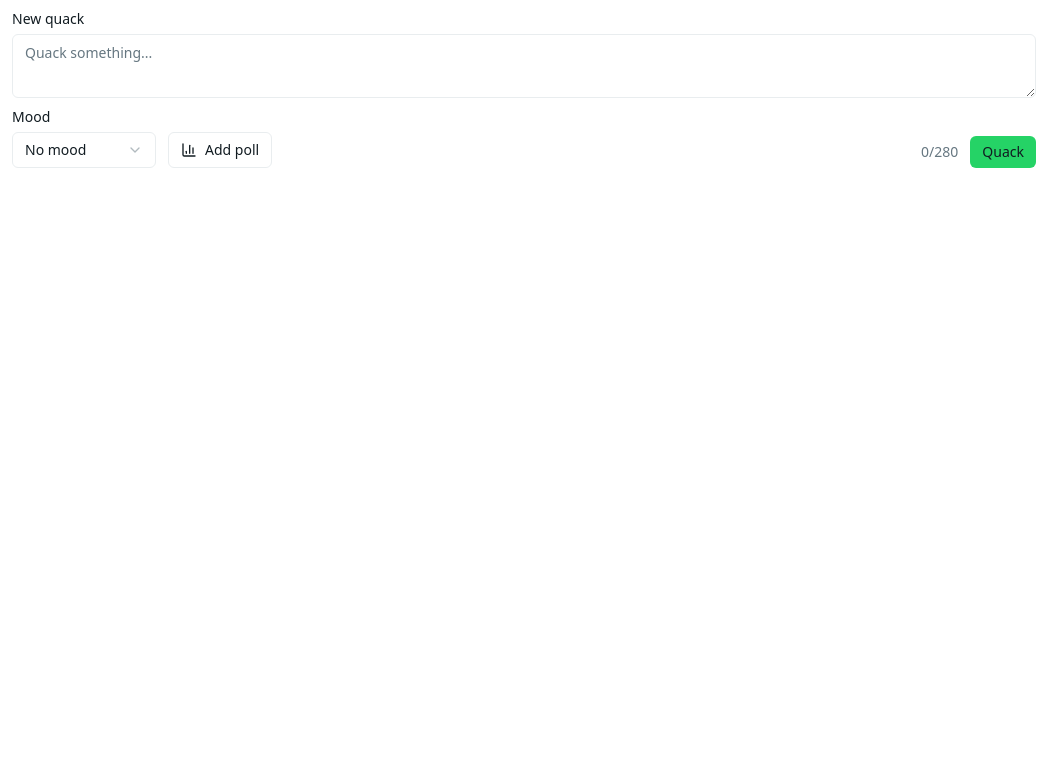
Test: QuackForm › starts with two answers and allows two to four
Click the button "Add poll": (220, 150) [168,132,272,168]
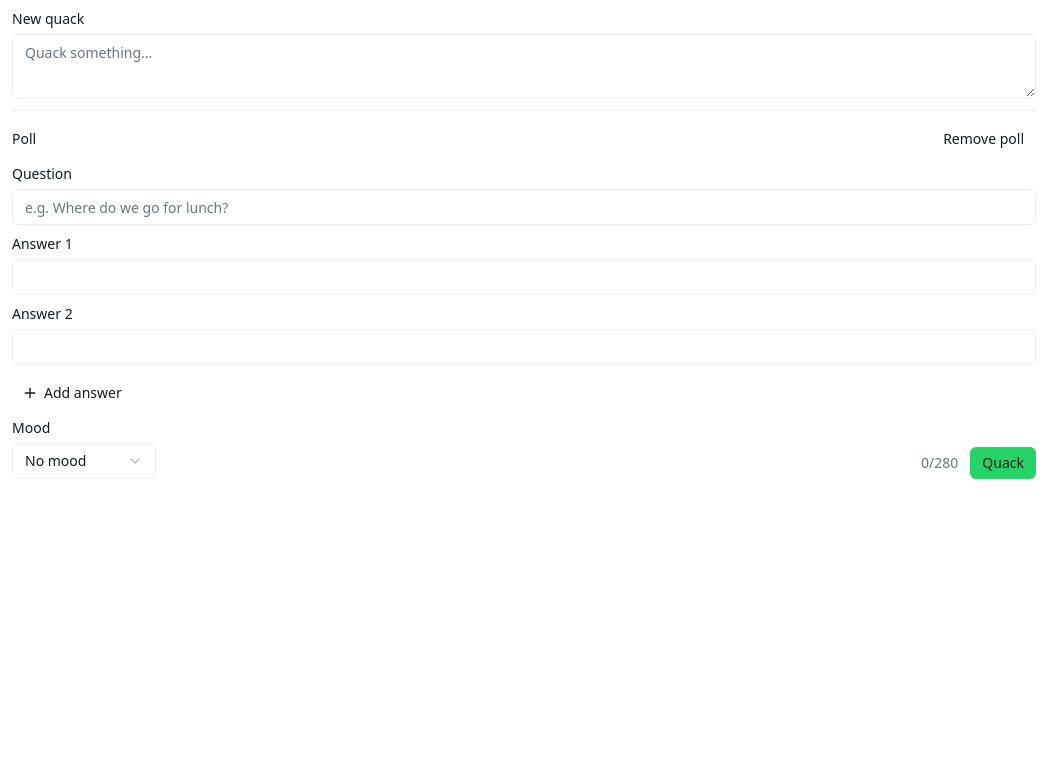
Click the button "Add answer": (72, 393) [12,377,132,409]
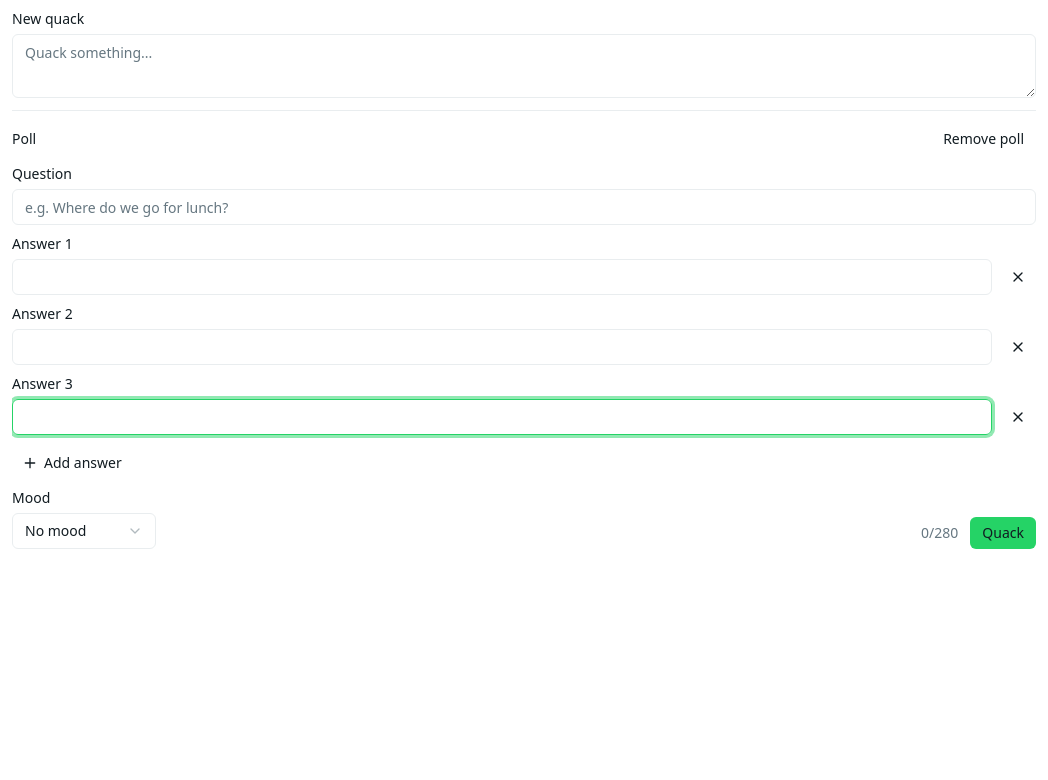
Click the button "Add answer": (72, 463) [12,447,132,479]
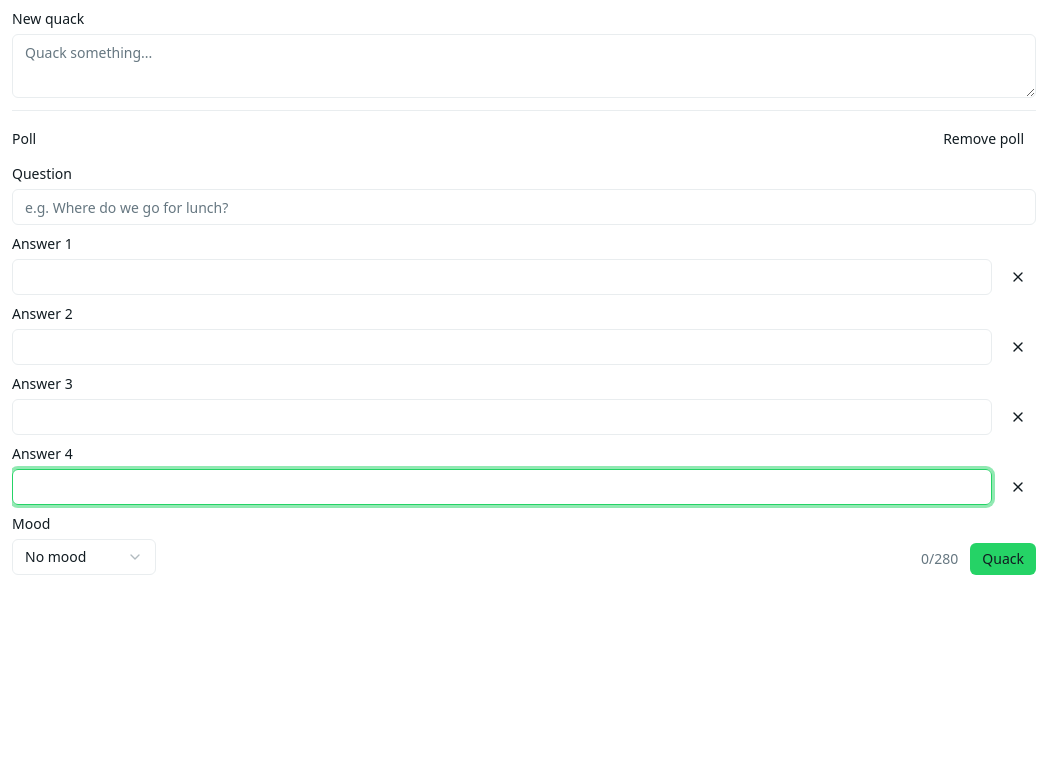
Result: the field labelled "Answer 4" is shown at [12,469,992,505]
Result: the button "Add answer" is gone
Click the button named "Remove answer 4": (1018, 487) [1000,469,1036,505]
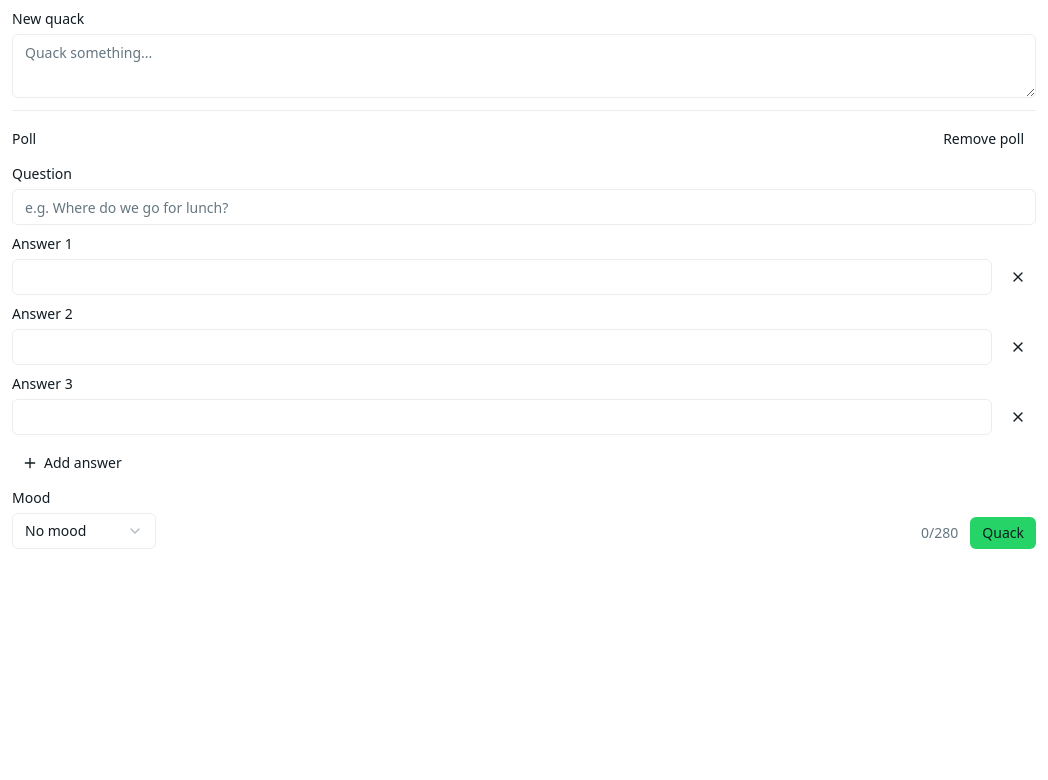
Click the button named "Remove answer 3": (1018, 417) [1000,399,1036,435]
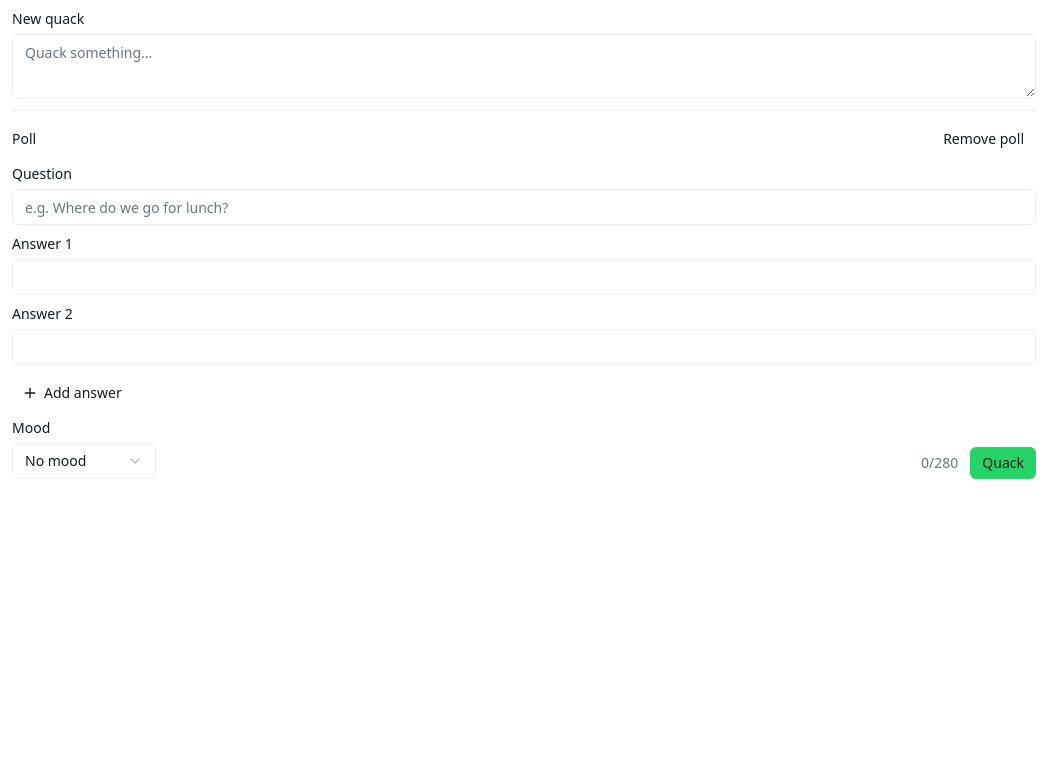
Result: the label labelled "Answer 3" is gone
